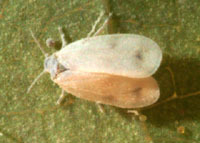whitefly: (27, 26, 161, 109)
